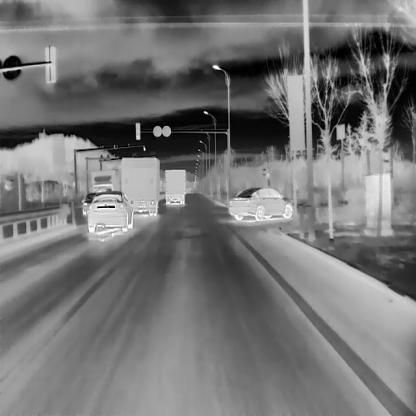car: (229, 187, 296, 220), (87, 190, 134, 232), (80, 191, 99, 214)
truck: (122, 157, 158, 215), (89, 158, 124, 212), (164, 169, 184, 204)
